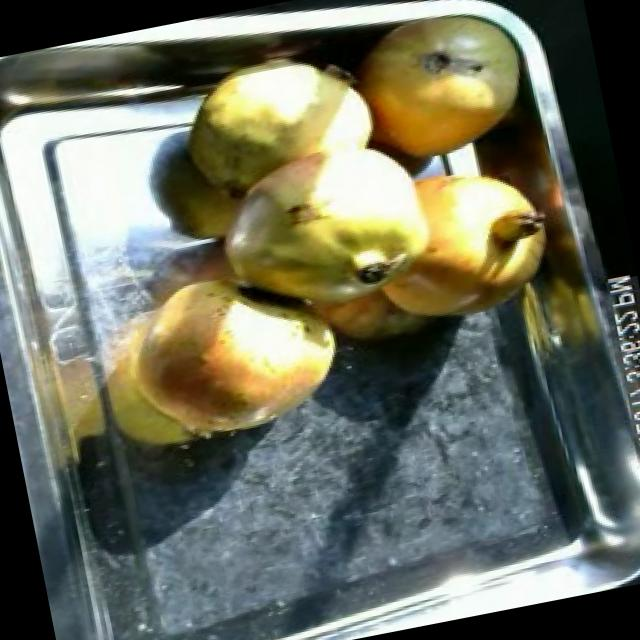fruit: (183, 115, 458, 348), (104, 240, 364, 462), (336, 144, 570, 344), (161, 34, 392, 213), (340, 0, 548, 178)
